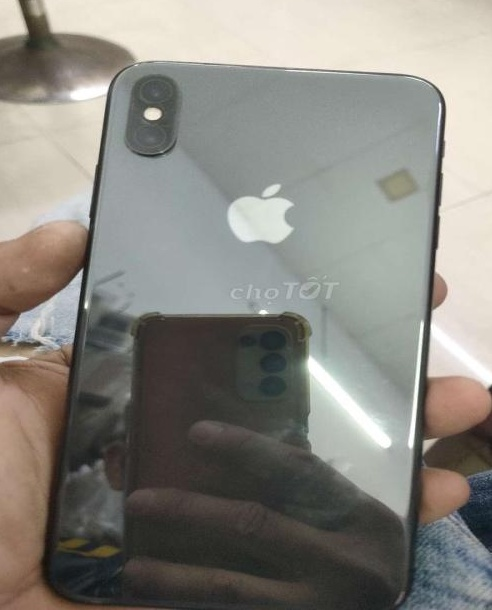scratch: (120, 60, 158, 71)
